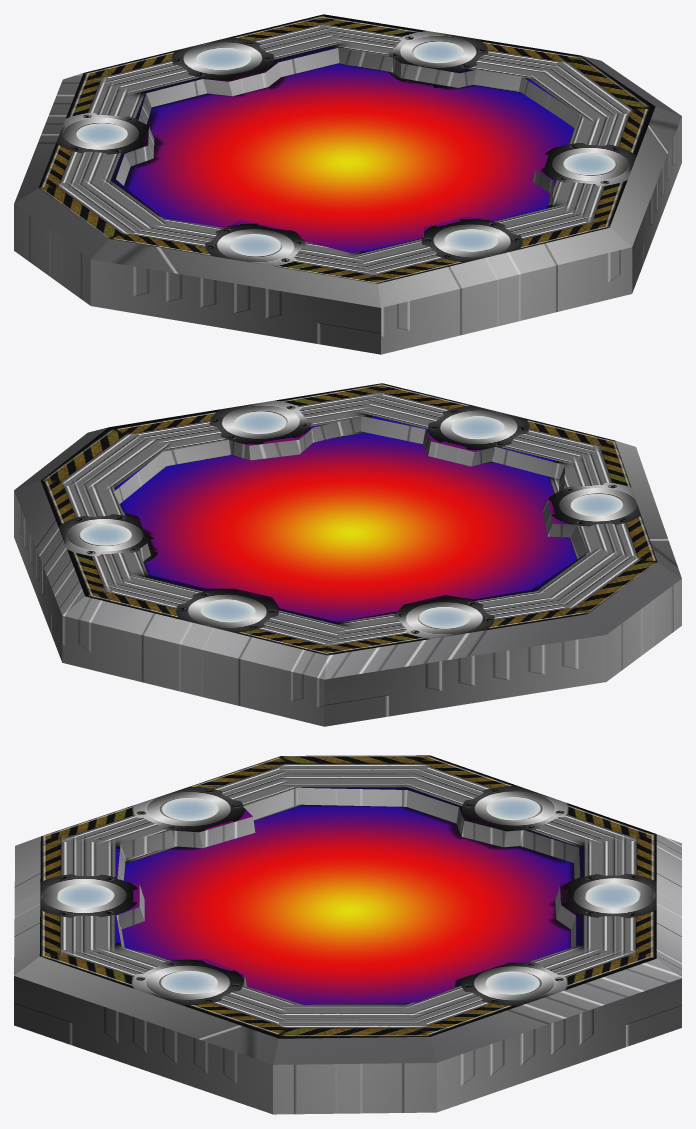
Rendered from Target_point.FBX.
3 renders of one model, top to bottom at view 1: azimuth 30°, elevation 25°; view 2: azimuth 150°, elevation 25°; view 3: azimuth 270°, elevation 25°, orthographic. The views are drawn at different scales.
Visible parts, largest first — view 1: Plane01; view 2: Plane01; view 3: Plane01.
Part boxes in pixels (left/top/right/bottom): Plane01: left=14, top=14, right=681, bottom=354; Plane01: left=14, top=383, right=681, bottom=726; Plane01: left=14, top=755, right=681, bottom=1114.
Size of the model in its own units: 72.41 by 7 by 66.67.
Materials: 1 (1 with a texture image).
